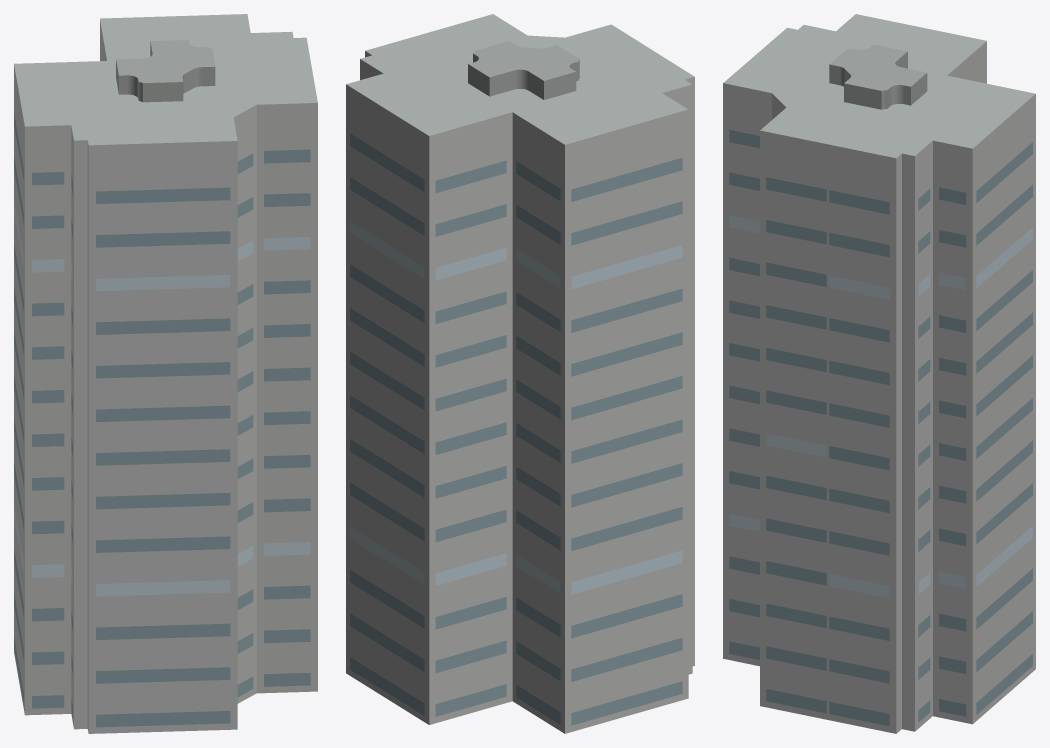
File: fallback-banpo-xi-113.glb
3 views of the same model, side by side, from view 1: azimuth 30°, elevation 25°; view 2: azimuth 150°, elevation 25°; view 3: azimuth 270°, elevation 25° (orthographic). The views are drawn at different scales.
Parts seen in each view (by area): view 1: fallback-banpo-xi-113; view 2: fallback-banpo-xi-113; view 3: fallback-banpo-xi-113.
Part boxes in pixels (box(x1,y1,x2,y2)): fallback-banpo-xi-113: box(14, 14, 317, 733); fallback-banpo-xi-113: box(346, 14, 694, 733); fallback-banpo-xi-113: box(723, 14, 1035, 733).
Size of the model in its own units: 39.58 by 76 by 36.23.
